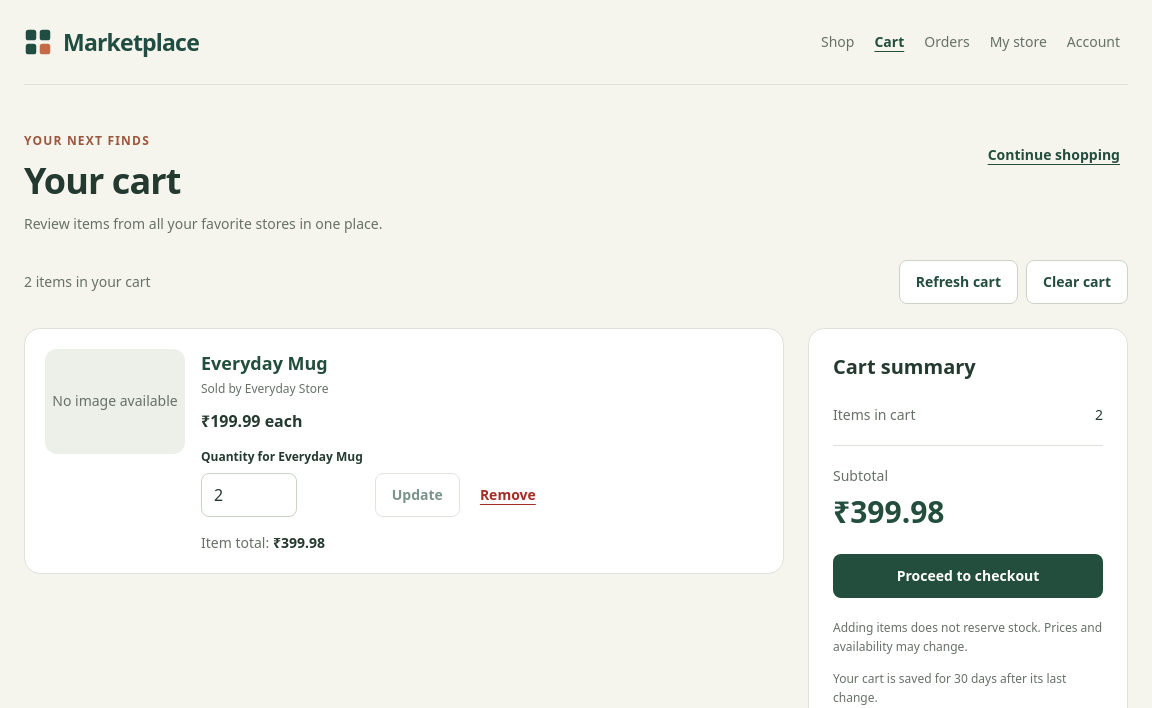
Test: a conflict reloads the latest cart without replaying the quantity mutation
This screenshot has width=1152, height=708.
Expected: the text "2 items in your cart" is shown, [24, 272, 151, 292]
Replace the text in the number field labelled "Quantity for Everyday Mug" with "3": [249, 495] box [201, 473, 297, 517]
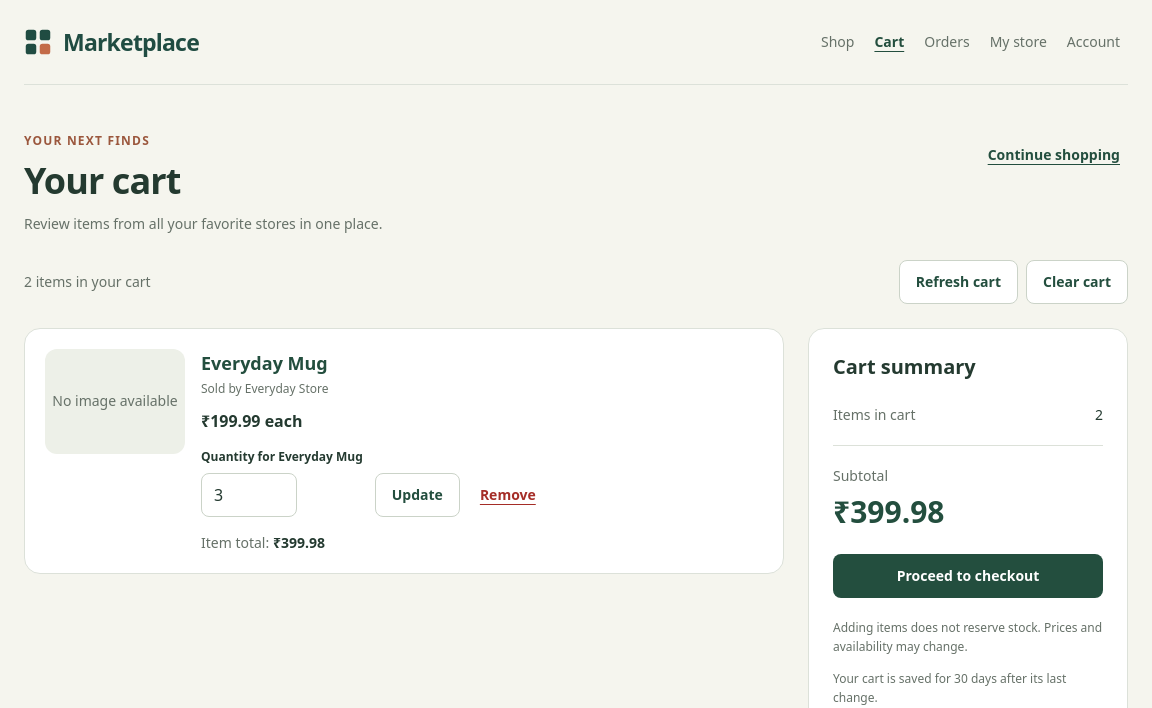
Click the button "Update": [417, 495] box [375, 473, 460, 517]
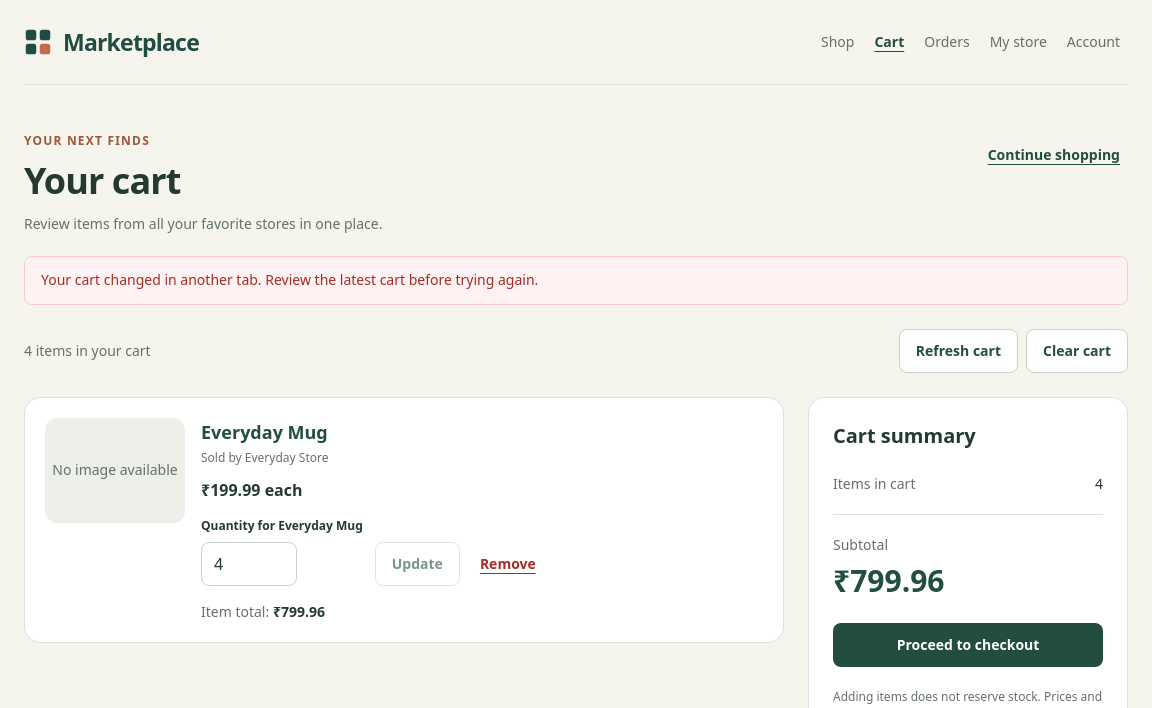
Expected: the text "4 items in your cart" is shown, [24, 340, 151, 360]
Expected: the message shows "another tab", [41, 270, 538, 289]
